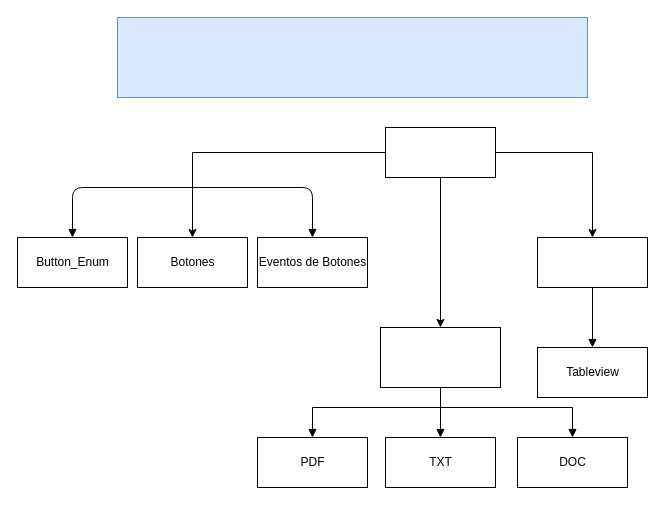
This 665x505 diagram has some shape labels left out. The shapes that lost their labels are listed below. From the top down, each one's box as (x1, y1, x2, y2) in pixels, then its label:
(116, 16, 588, 98): Diagrama de clases inicial o de prueba.
(384, 126, 496, 178): Main
(536, 236, 648, 288): Características de archivos
(380, 326, 500, 388): TextFinder
